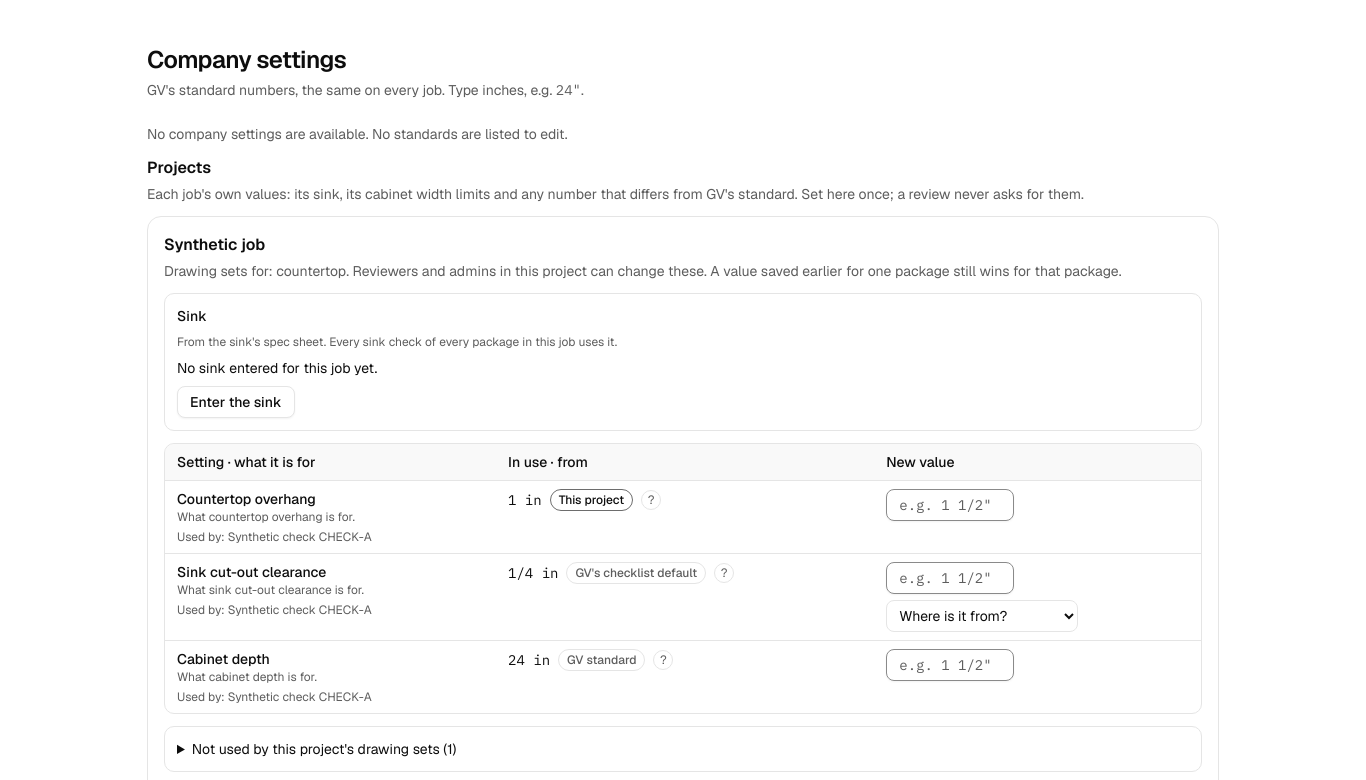
Test: Company settings → Projects › asks for the source before saving a value that has several honest ones
In the field named "New value for Sink cut-out clearance": x=950, y=578 [886,562,1014,594], type "1/8\""
(page scrolled)
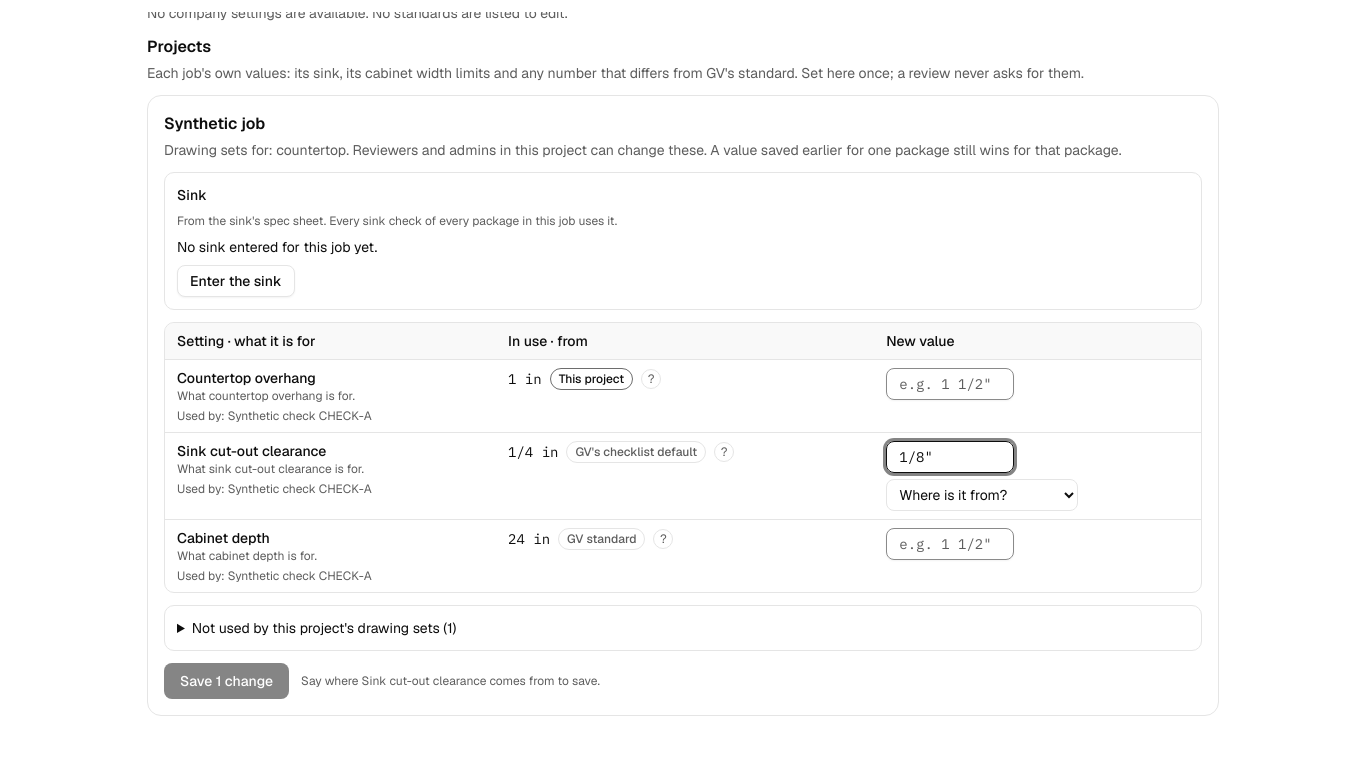
expect the button "Save 1 change" is disabled: met, box [164,663,289,699]
